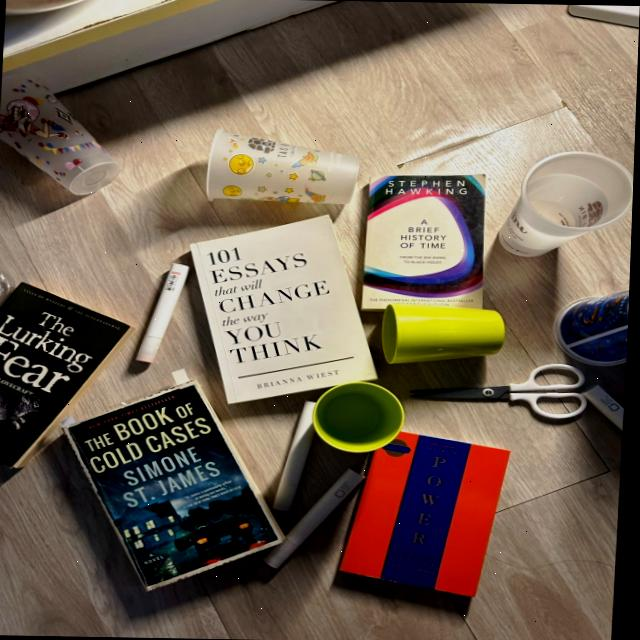Book: (69, 376, 286, 590), (192, 215, 378, 403), (344, 431, 512, 596), (0, 283, 134, 467), (363, 174, 486, 312)
HighLight Pen: (269, 468, 367, 568), (138, 263, 191, 363), (276, 401, 318, 511), (585, 384, 626, 430)
Plastic Cup: (500, 151, 635, 256), (0, 79, 120, 194), (207, 128, 360, 204), (556, 291, 631, 366), (0, 269, 13, 307)
Scissors: (413, 366, 544, 399), (515, 363, 589, 390), (516, 393, 590, 418)
WaterGlass: (385, 303, 507, 364), (316, 381, 407, 452)
